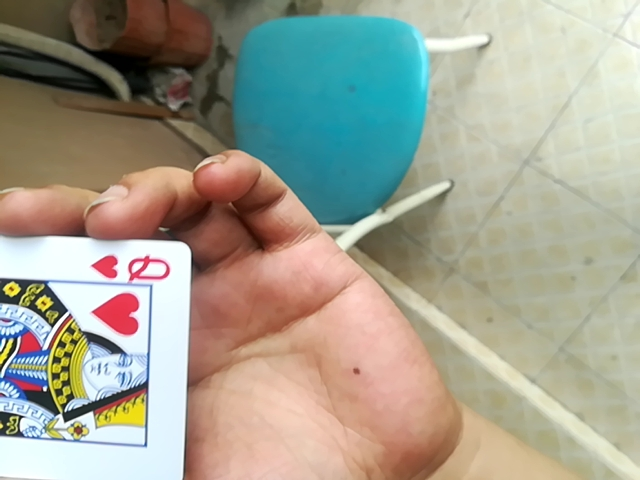hx q: (0, 228, 194, 480)
